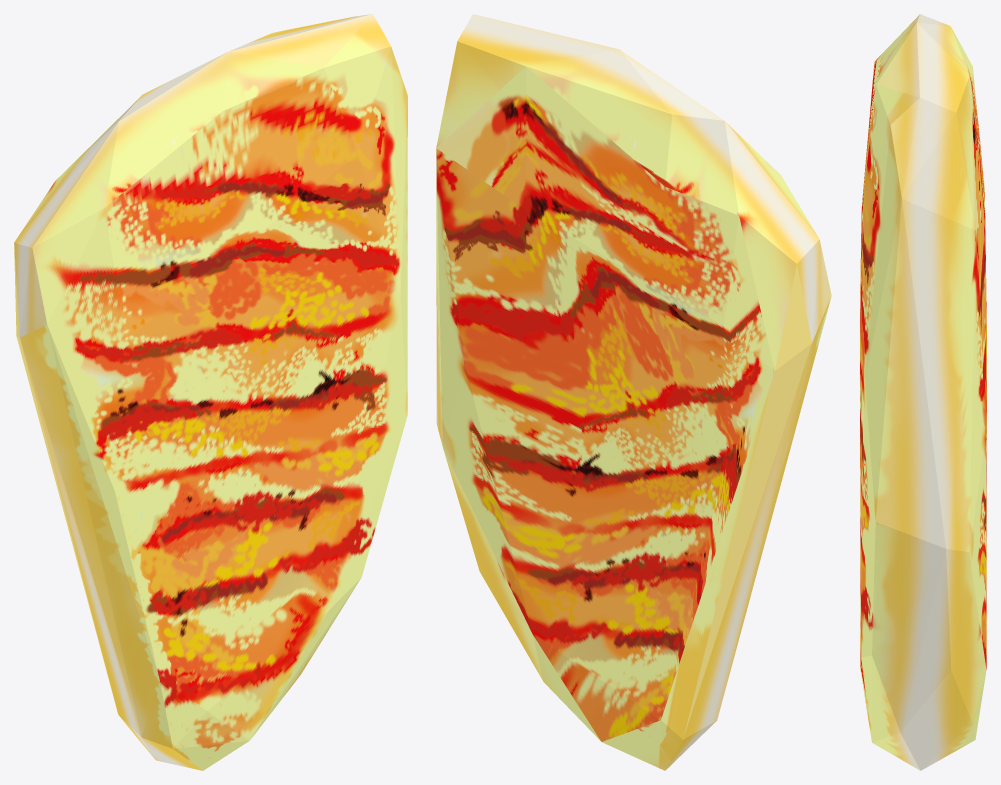
File: frango.glb
The picture shows the model from 3 angles, left to right: view 1: azimuth 30°, elevation 25°; view 2: azimuth 150°, elevation 25°; view 3: azimuth 270°, elevation 25°; orthographic projection. The views are drawn at different scales.
Visible parts, largest first — view 1: Frango.001; view 2: Frango.001; view 3: Frango.001.
Boxes of the visible parts, bbox=[...] form: Frango.001: bbox=[14, 14, 407, 770]; Frango.001: bbox=[436, 14, 831, 770]; Frango.001: bbox=[860, 14, 986, 770].
Bounding box in the file's own units: 3.2 × 5.79 × 0.8807.
Materials: 1 (1 with a texture image).
